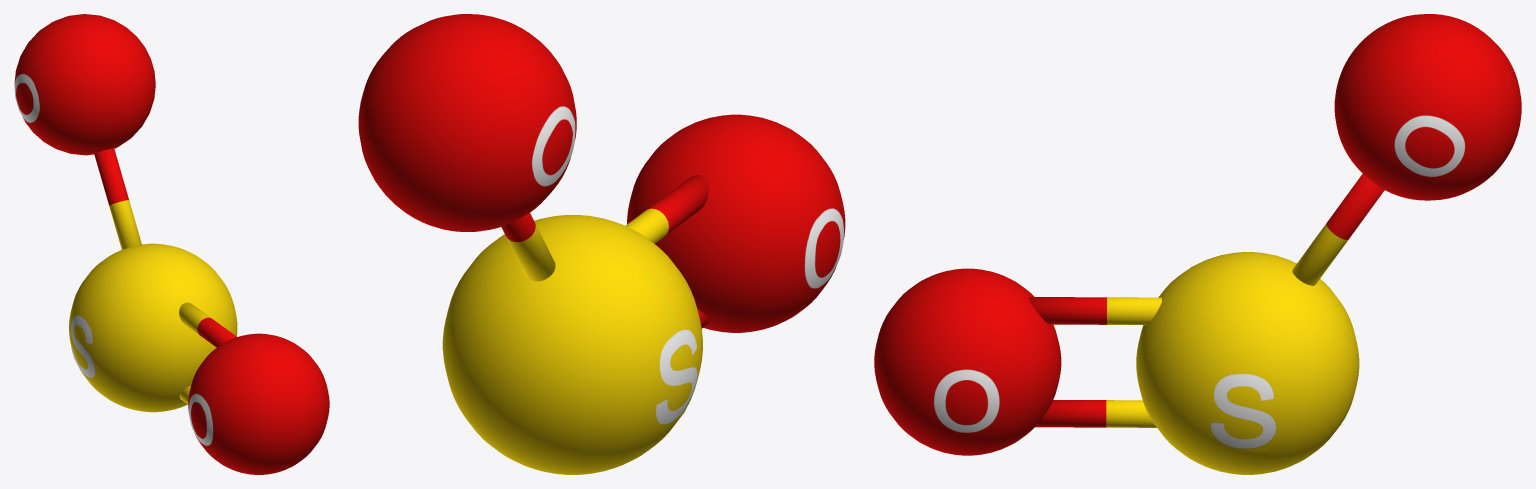
The model's file is dioxido_enxofre.glb.
3 views of the same model, side by side, from view 1: azimuth 30°, elevation 25°; view 2: azimuth 150°, elevation 25°; view 3: azimuth 270°, elevation 25° (orthographic). The views are drawn at different scales.
Visible parts, largest first — view 1: Mol molde 36; view 2: Mol molde 36; view 3: Mol molde 36.
Part boxes in pixels (left/top/right/bottom): Mol molde 36: left=14, top=14, right=329, bottom=474; Mol molde 36: left=358, top=14, right=845, bottom=474; Mol molde 36: left=874, top=14, right=1521, bottom=474.
Bounding box in the file's own units: 0.3641 × 0.7958 × 1.06.
Materials: 2 (2 with a texture image).
